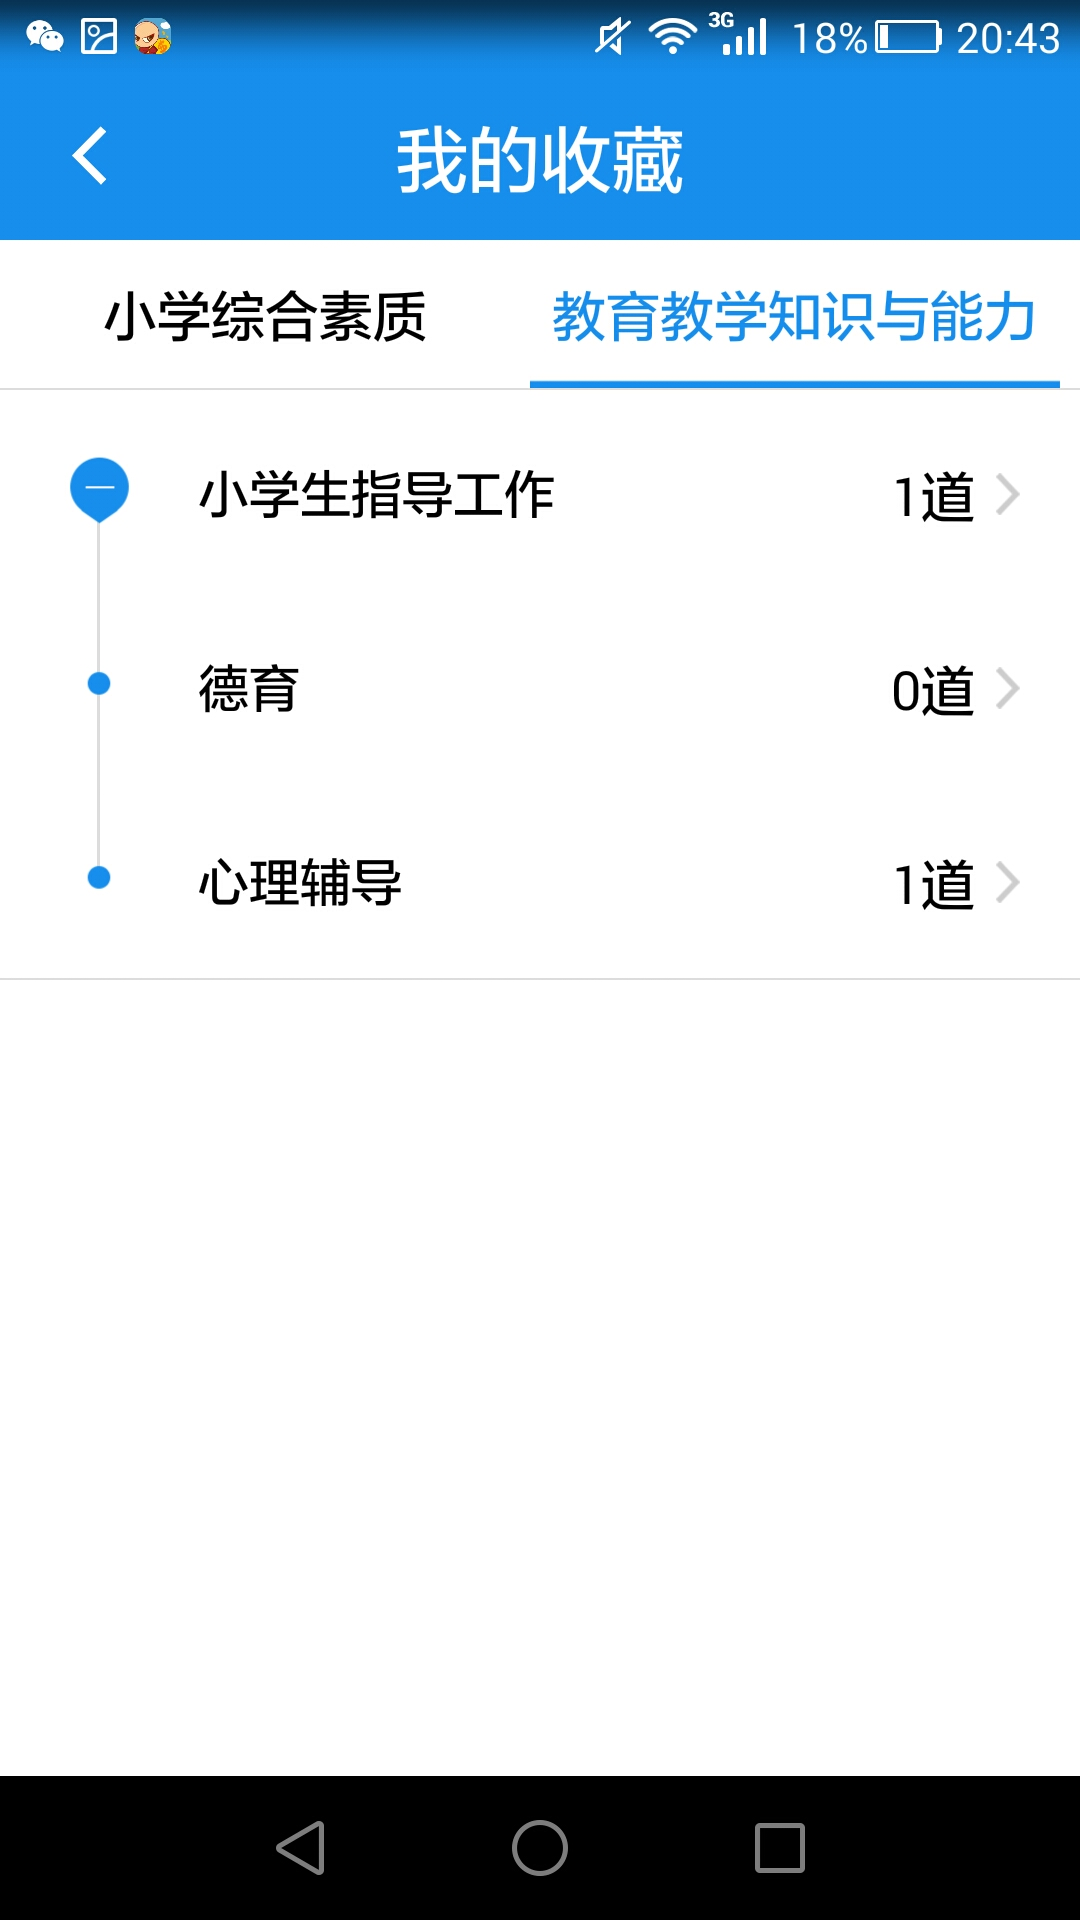textview: (41, 396, 1062, 959)
